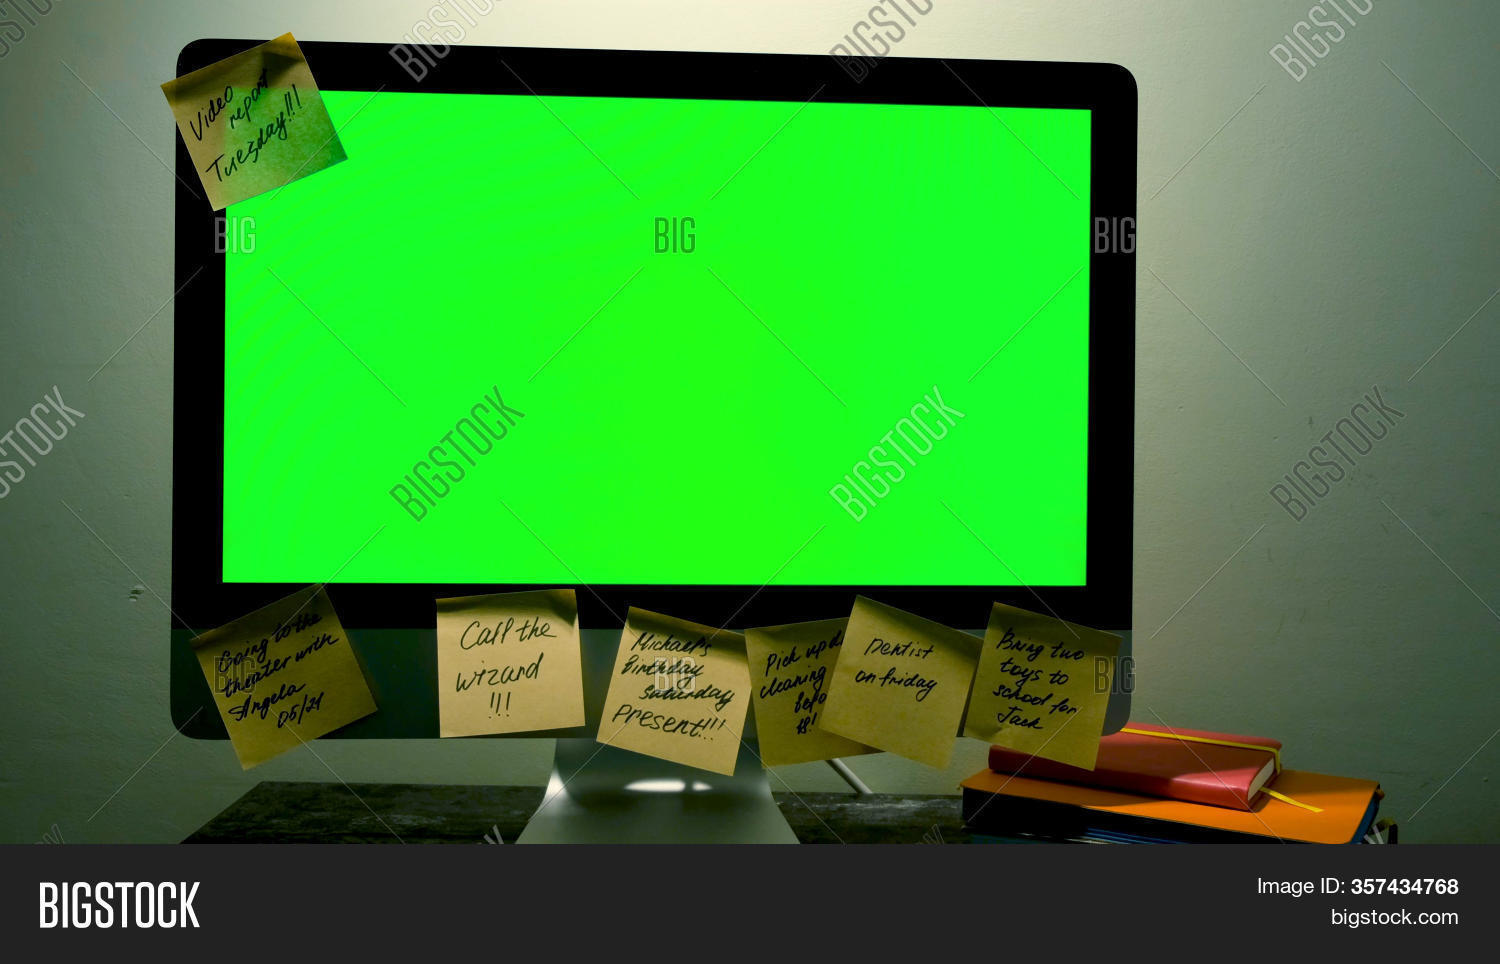Note: (191, 588, 378, 771), (164, 40, 349, 214), (969, 598, 1128, 781), (595, 606, 751, 777), (827, 596, 980, 771), (423, 583, 591, 738), (747, 614, 895, 771)
